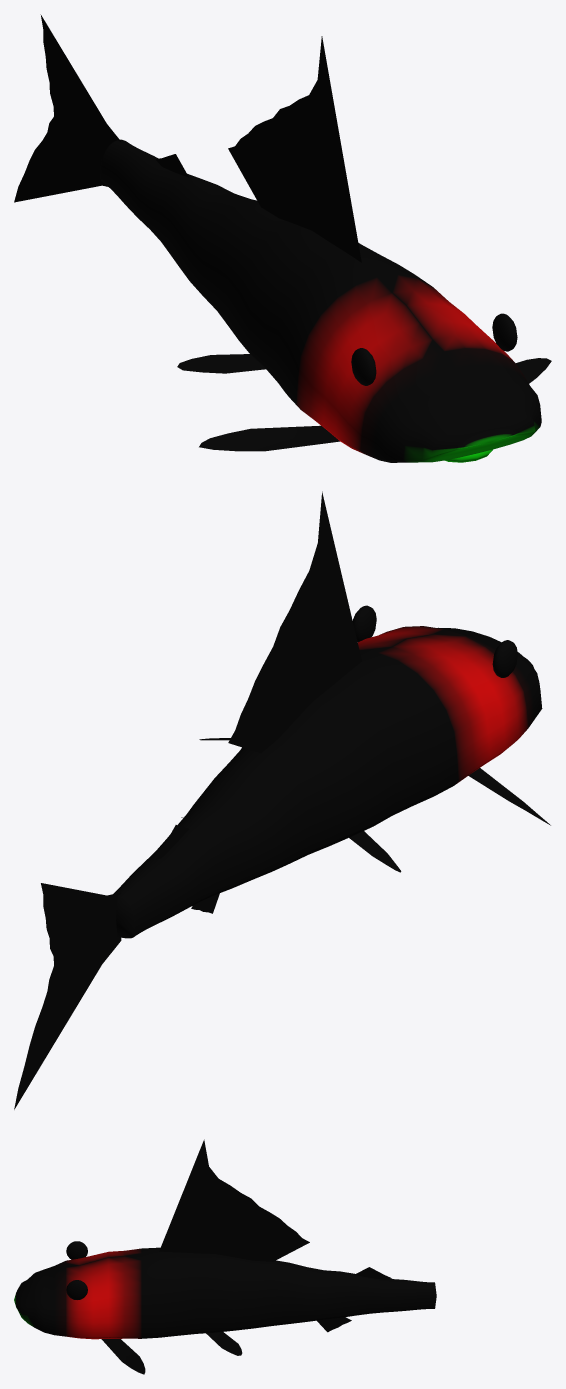
Rendered from common-pleco.glb.
3 renders of one model, top to bottom at view 1: azimuth 30°, elevation 25°; view 2: azimuth 150°, elevation 25°; view 3: azimuth 270°, elevation 25°, orthographic. The views are drawn at different scales.
Visible parts, largest first — view 1: pleco_body, pleco_dorsal, pleco_caudal, pleco_pectoralL, pleco_pelvicL, pleco_eyeL, pleco_eyeR; view 2: pleco_body, pleco_dorsal, pleco_caudal, pleco_pectoralL, pleco_eyeL; view 3: pleco_body, pleco_dorsal, pleco_pectoralR, pleco_pelvicR, pleco_eyeR, pleco_eyeL.
Part boxes in pixels (<box>): pleco_body: <box>100,139,541,462</box>; pleco_dorsal: <box>228,36,361,262</box>; pleco_caudal: <box>14,14,121,202</box>; pleco_pectoralL: <box>199,425,339,451</box>; pleco_pelvicL: <box>177,354,265,373</box>; pleco_eyeL: <box>351,348,376,385</box>; pleco_eyeR: <box>492,313,517,351</box>; pleco_body: <box>113,626,542,938</box>; pleco_dorsal: <box>228,491,361,753</box>; pleco_caudal: <box>14,883,121,1109</box>; pleco_pectoralL: <box>468,768,550,825</box>; pleco_eyeL: <box>492,640,517,677</box>; pleco_body: <box>14,1247,436,1339</box>; pleco_dorsal: <box>159,1139,309,1261</box>; pleco_pectoralR: <box>101,1339,145,1374</box>; pleco_pelvicR: <box>206,1332,242,1355</box>; pleco_eyeR: <box>66,1280,87,1299</box>; pleco_eyeL: <box>66,1241,87,1259</box>.
Size of the model in its own units: 0.5473 by 0.5819 by 1.28.
